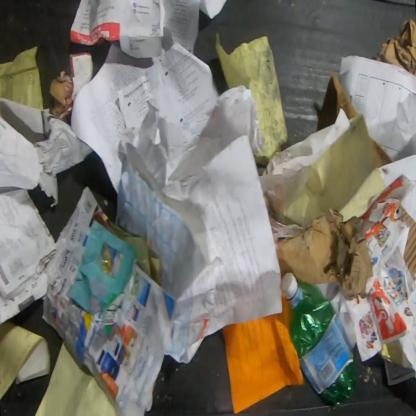cardboard: (268, 207, 378, 297), (48, 52, 94, 120), (374, 18, 415, 77), (328, 70, 359, 121), (401, 204, 415, 285), (369, 136, 396, 168)
rigid_plastic: (280, 272, 357, 407)
